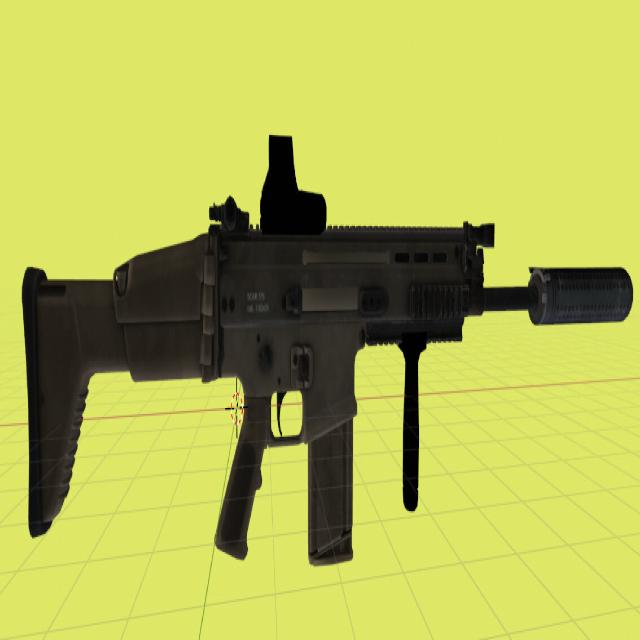Gun: (2, 126, 634, 612)
